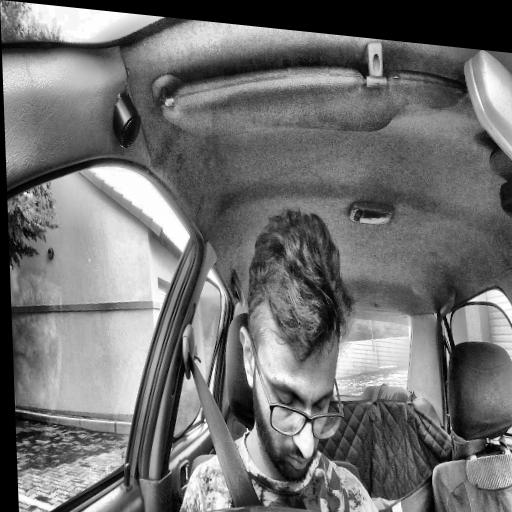drowsy: (234, 201, 360, 501)
